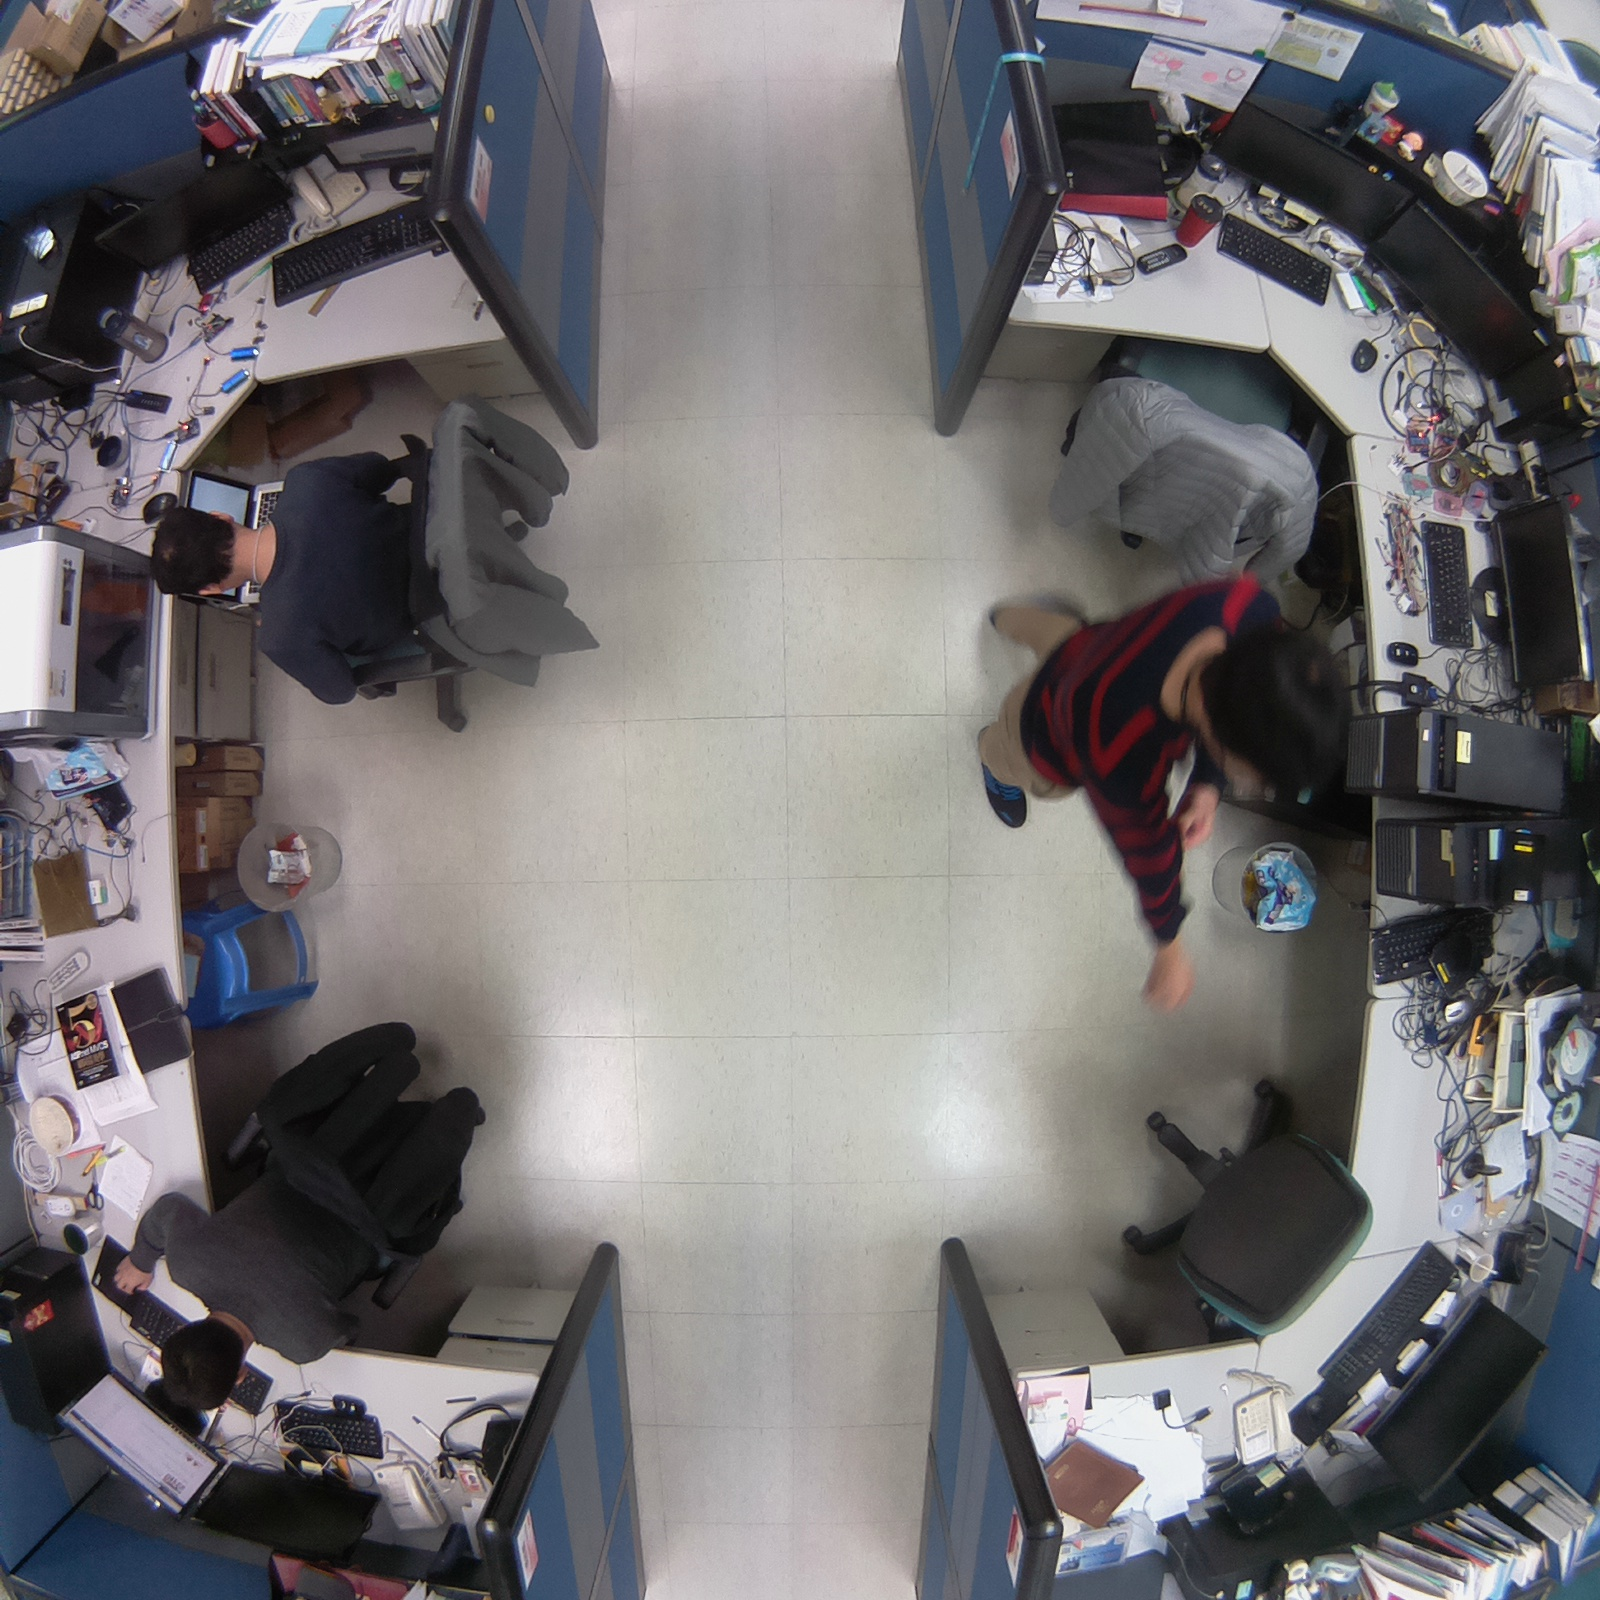chair: (1112, 1065, 1386, 1350), (1050, 319, 1332, 593)
head: (1200, 619, 1366, 806), (142, 500, 253, 608), (146, 1310, 253, 1423)
sitting: (102, 1004, 506, 1418), (142, 383, 622, 727)
walking: (965, 563, 1361, 914)
